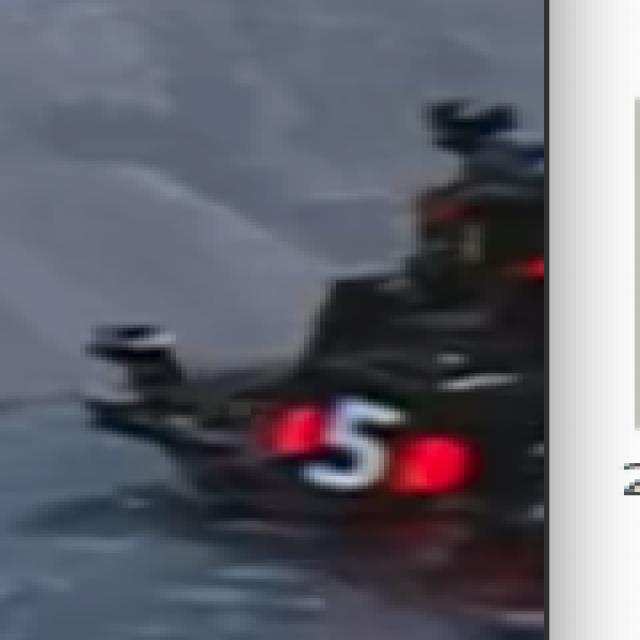R5: (277, 389, 453, 492)
